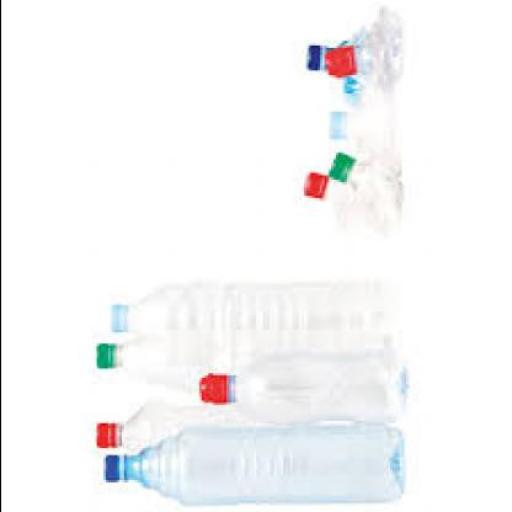plastic: (102, 428, 400, 510), (107, 289, 387, 346), (198, 354, 408, 424), (93, 337, 366, 389), (93, 402, 245, 456), (323, 9, 401, 93), (330, 154, 399, 224), (303, 36, 367, 106), (303, 173, 375, 227), (321, 103, 400, 152), (323, 43, 355, 83), (196, 376, 230, 408), (91, 342, 113, 374), (323, 112, 348, 138), (326, 157, 350, 184), (105, 305, 125, 335), (301, 176, 323, 202), (94, 425, 116, 451), (303, 46, 321, 75), (102, 458, 118, 484)
